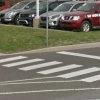Crosswalk: (7, 47, 100, 90)
